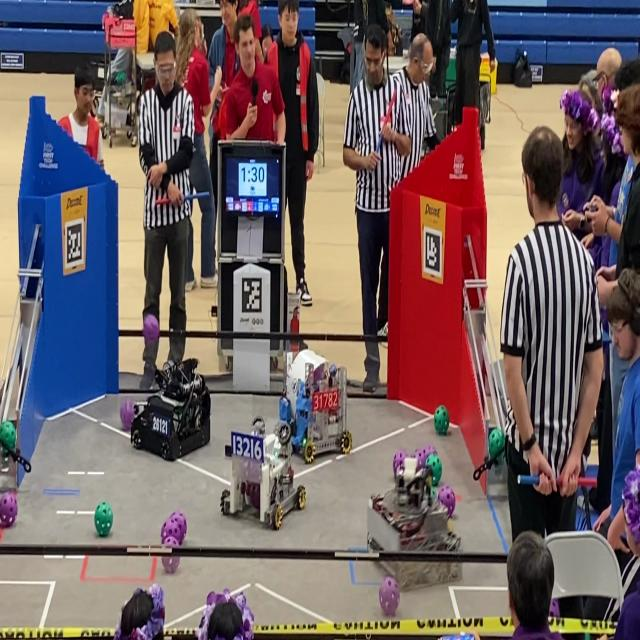artifact_green: (95, 502, 113, 537), (489, 428, 505, 463), (0, 421, 16, 452), (426, 454, 442, 485), (434, 406, 449, 435), (115, 72, 127, 85), (431, 486, 438, 502)
artifact_purple: (379, 577, 399, 616), (0, 492, 17, 528), (169, 511, 186, 545), (438, 485, 455, 517), (161, 518, 181, 543), (143, 314, 159, 344), (120, 400, 134, 432), (245, 482, 259, 509), (162, 555, 180, 574), (393, 450, 406, 476), (413, 449, 427, 470), (251, 483, 260, 509), (549, 599, 560, 618), (423, 444, 436, 458), (207, 592, 216, 606)
